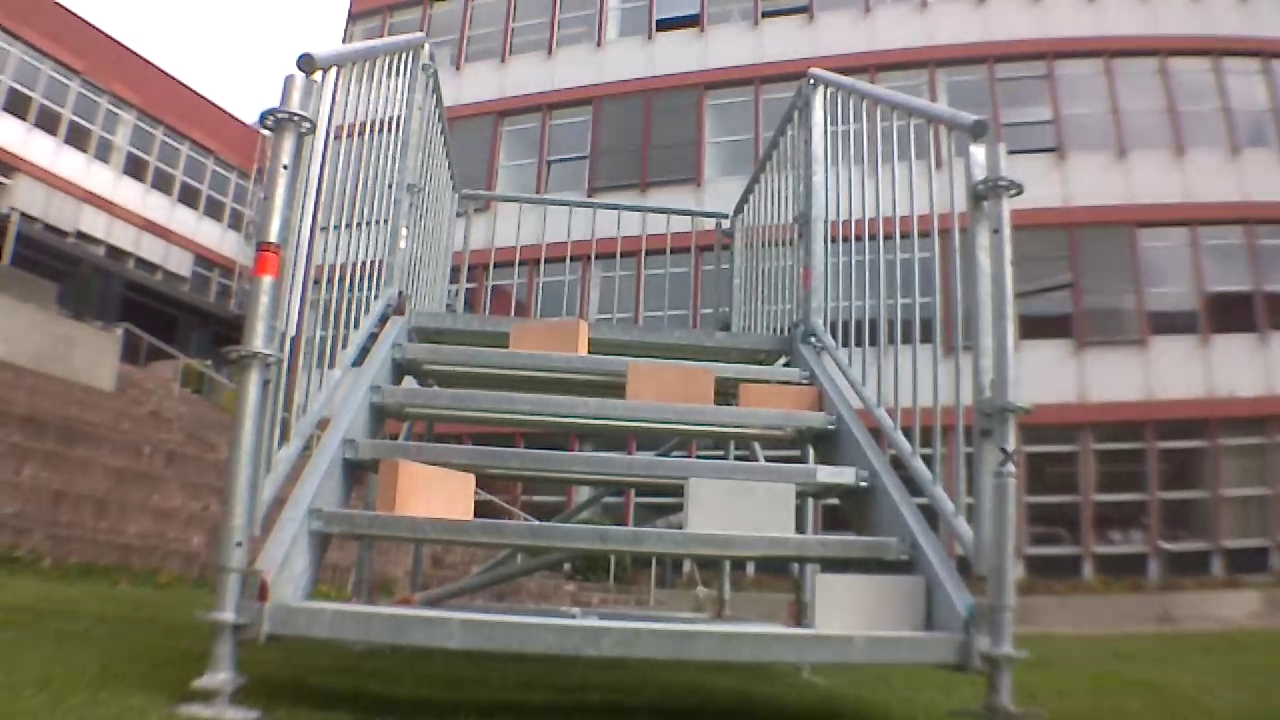brick: (682, 478, 796, 535), (817, 574, 925, 632), (377, 457, 474, 517), (625, 361, 713, 403), (509, 319, 588, 355), (738, 383, 818, 412)
edge: (263, 601, 960, 664), (304, 509, 906, 558), (340, 438, 873, 486), (371, 381, 837, 428), (392, 343, 808, 380), (415, 311, 791, 349)
stairs: (181, 31, 1038, 717)
steps: (257, 304, 971, 674)
